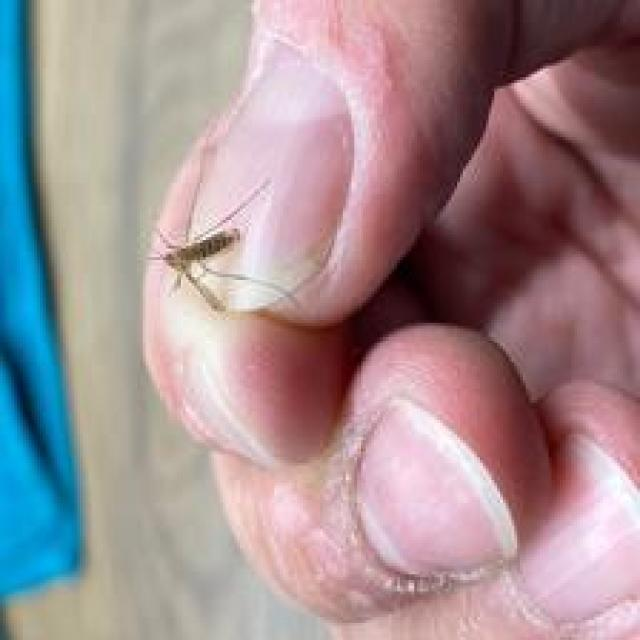Culex: (144, 176, 299, 316)
